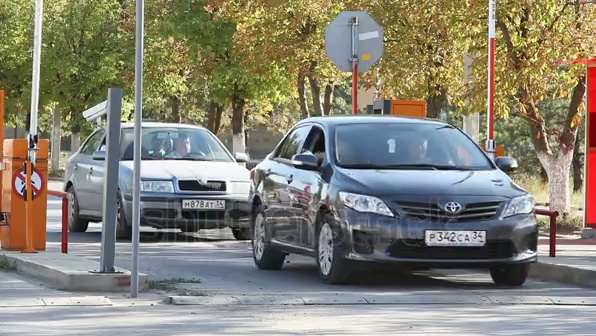licenseplate: (426, 229, 486, 252), (183, 195, 231, 216)
